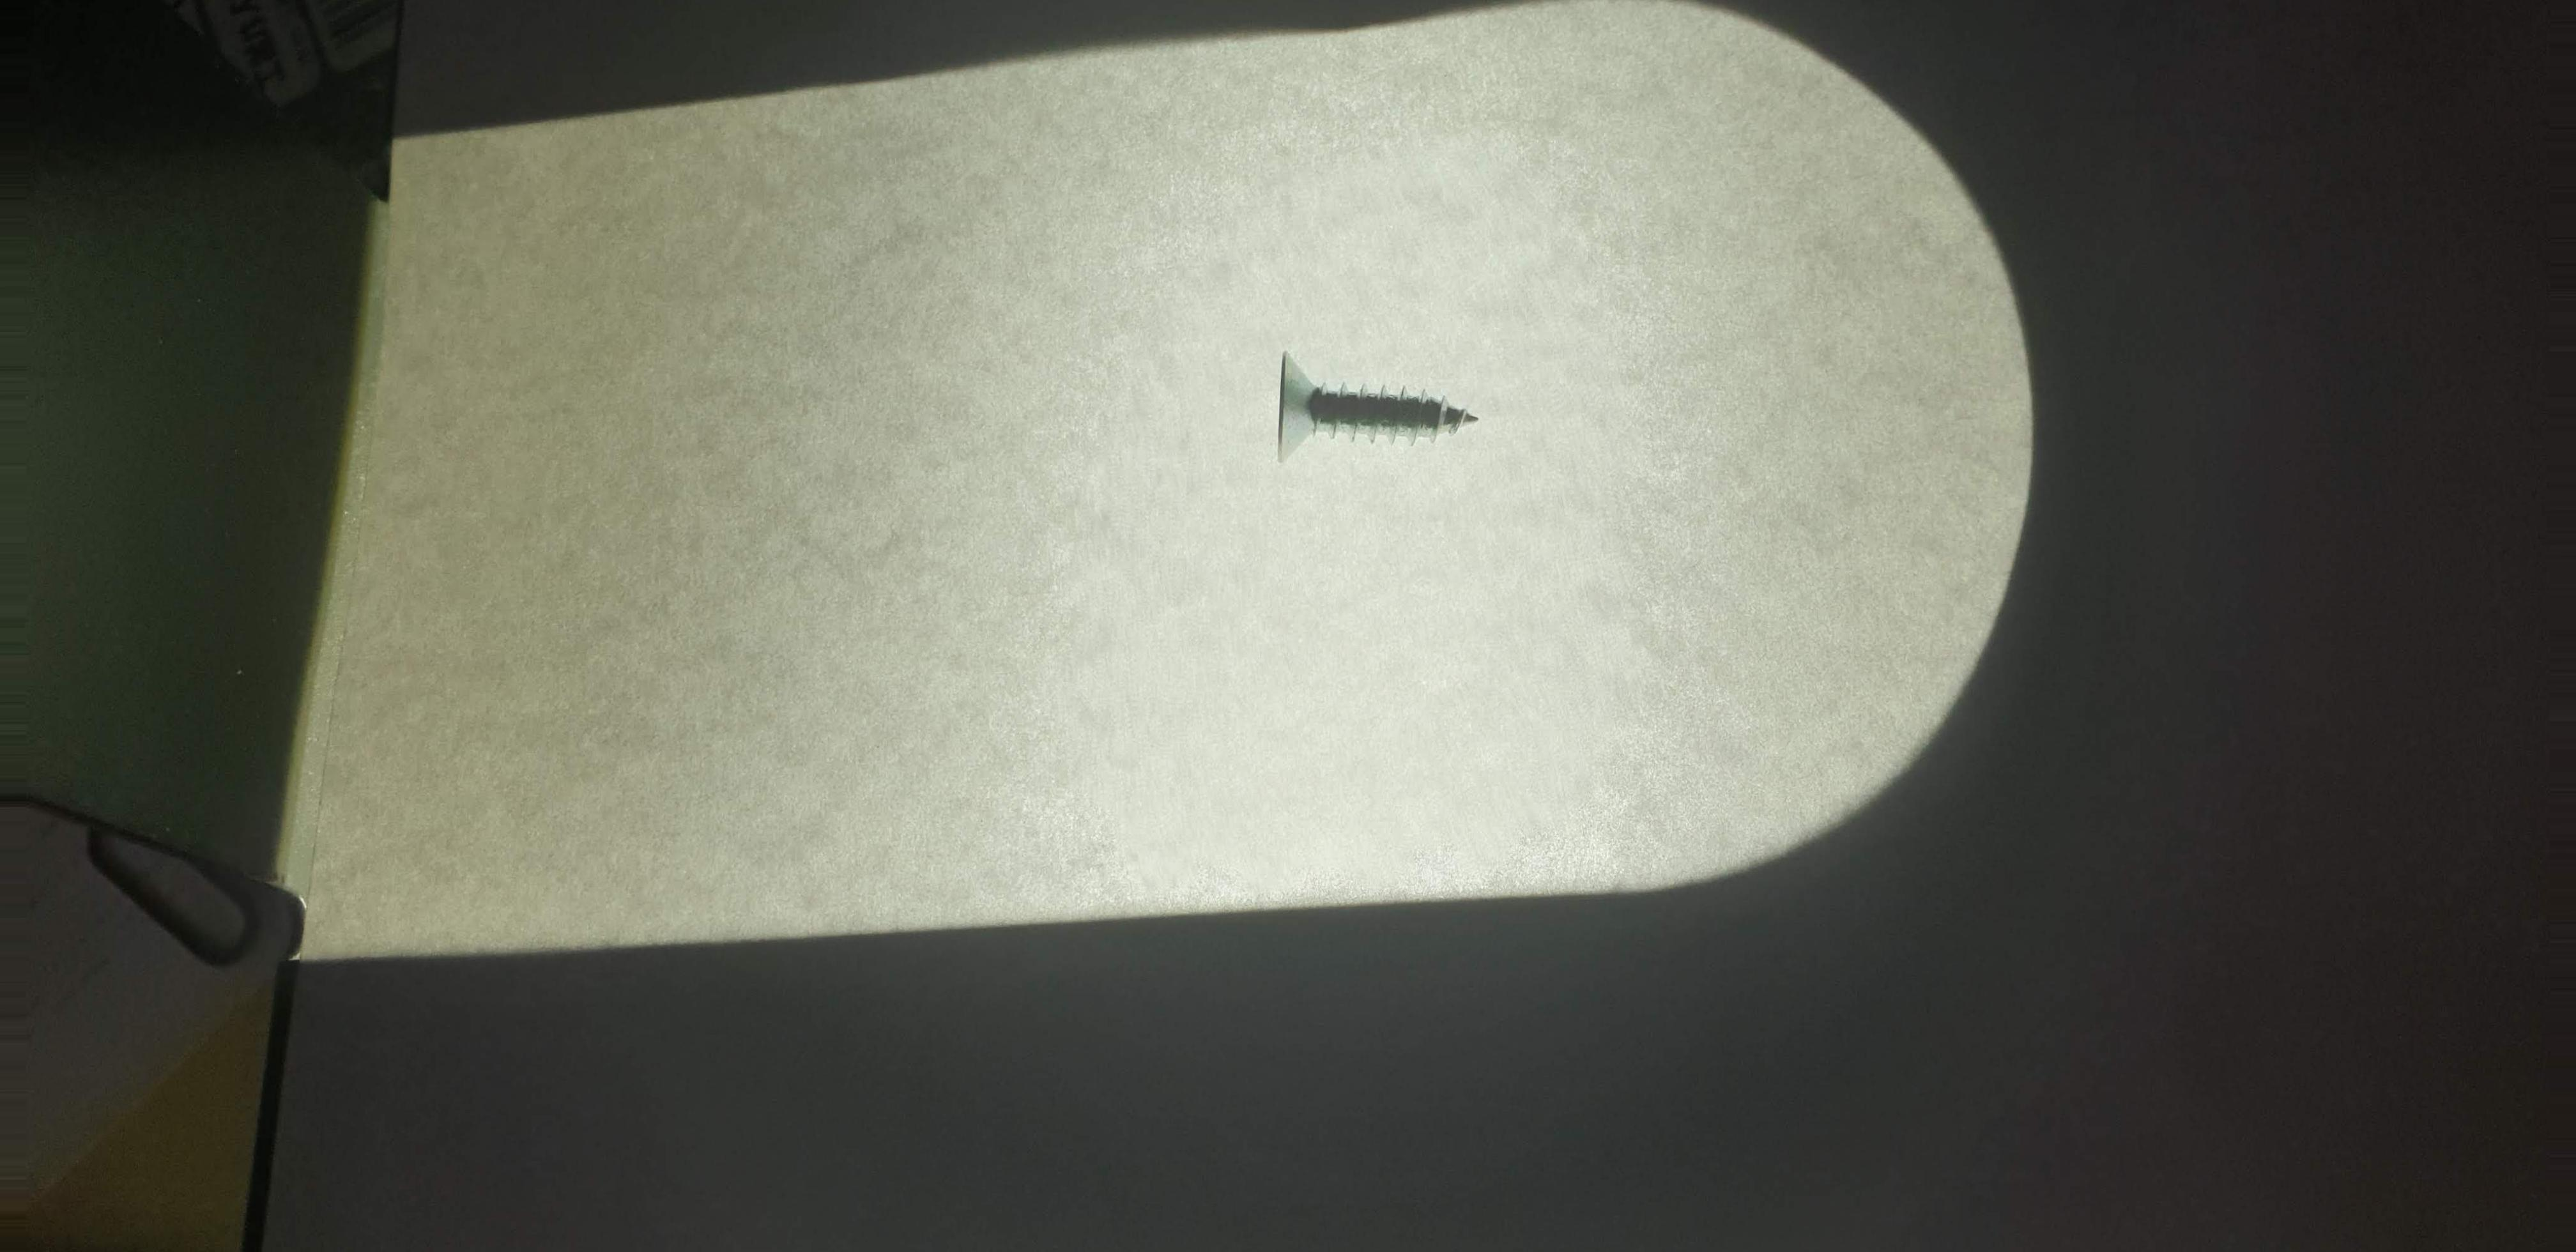S003: (1239, 327, 1510, 495)
